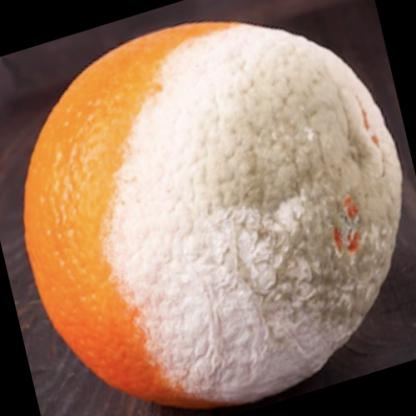rotten_orange: (18, 15, 406, 410)
